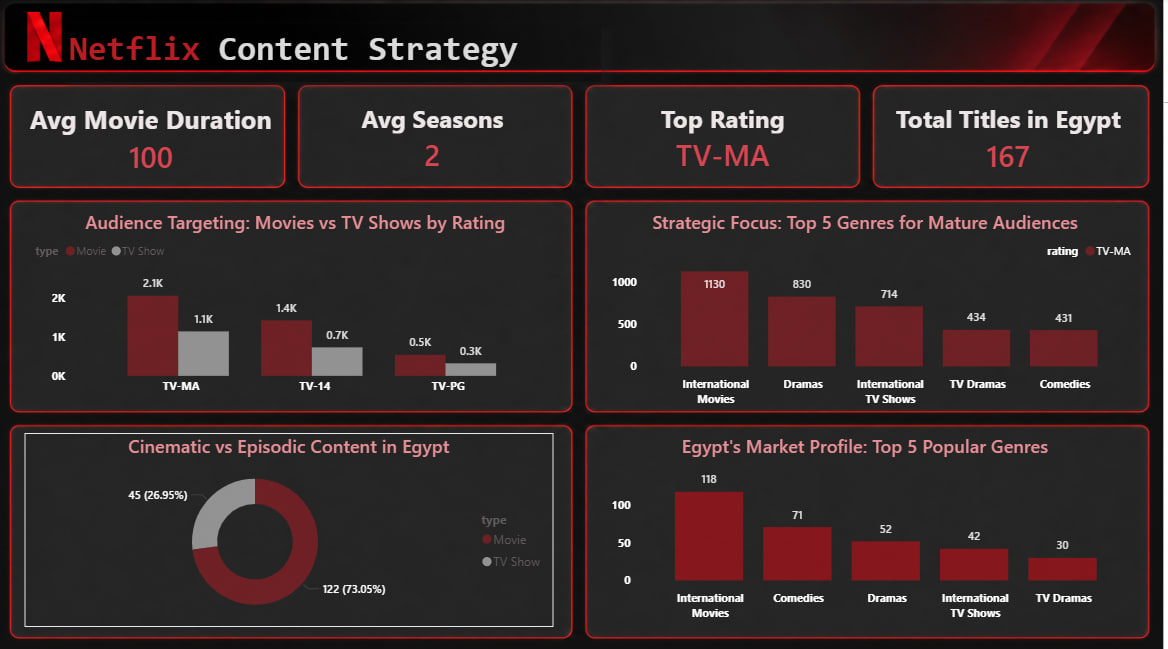

The dashboard page shown, as its layout file describes it:
{"tool":"powerbi","page":{"name":"Duplicate of Overview","canvas":[1280,720],"ordinal":1},"visuals":[{"type":"textbox","box":[74.1,28.8,588.7,63.1],"z":0},{"type":"cardVisual","fields":{"Data":["FactNetflix.Avg Movie Duration"]},"box":[0,91.7,338.1,125],"z":1000},{"type":"cardVisual","fields":{"Data":["FactNetflix.Avg Seasons"]},"box":[327.4,101.2,300,103.6],"z":2000},{"type":"cardVisual","fields":{"Data":["FactNetflix.Top Rating"]},"box":[652.4,101.2,290.5,103.6],"z":3000},{"type":"cardVisual","fields":{"Data":["FactNetflix.Total Titles in Egypt"]},"box":[941.7,97.6,338.1,113.1],"z":4000},{"type":"clusteredColumnChart","title":"Audience Targeting: Movies vs TV Shows by Rating","fields":{"Category":["DimRating.rating"],"Y":["FactNetflix.Total Titles"],"Series":["DimContent.type"]},"box":[36.9,232.1,581,213.1],"z":5000},{"type":"clusteredColumnChart","title":"Strategic Focus: Top 5 Genres for Mature Audiences","fields":{"Category":["DimGenre.Genre"],"Y":["FactNetflix.Total Titles"],"Series":["DimRating.rating"]},"box":[651.8,231.9,602.4,223.7],"z":7000},{"type":"donutChart","title":"Cinematic vs Episodic Content in Egypt","fields":{"Category":["DimContent.type"],"Y":["FactNetflix.Total Titles in Egypt"]},"box":[30.2,477.5,580.4,212.7],"z":7003},{"type":"columnChart","title":"Egypt''s Market Profile: Top 5 Popular Genres","fields":{"Category":["DimGenre.Genre"],"Y":["FactNetflix.Total Titles in Egypt"]},"box":[652,478,602,213],"z":7004}]}

Visuals, with their boxes in screenshot pixels (x1, y1, x2, y2), scaled from the page's 1280x720 canvas onto the 1168x649 screenshot:
textbox: <region>68, 26, 605, 83</region>
cardVisual - FactNetflix.Avg Movie Duration: <region>0, 83, 309, 195</region>
cardVisual - FactNetflix.Avg Seasons: <region>299, 91, 573, 185</region>
cardVisual - FactNetflix.Top Rating: <region>595, 91, 860, 185</region>
cardVisual - FactNetflix.Total Titles in Egypt: <region>859, 88, 1167, 190</region>
"Audience Targeting: Movies vs TV Shows by Rating" clusteredColumnChart: <region>34, 209, 564, 401</region>
"Strategic Focus: Top 5 Genres for Mature Audiences" clusteredColumnChart: <region>595, 209, 1144, 411</region>
"Cinematic vs Episodic Content in Egypt" donutChart: <region>28, 430, 557, 622</region>
"Egypt''s Market Profile: Top 5 Popular Genres" columnChart: <region>595, 431, 1144, 623</region>
